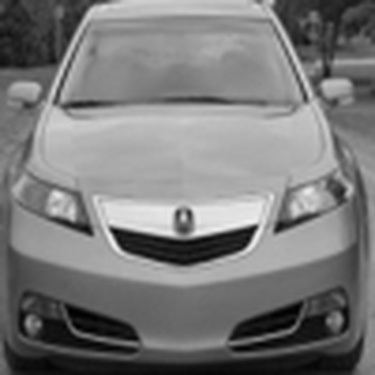car: (1, 8, 370, 371)
